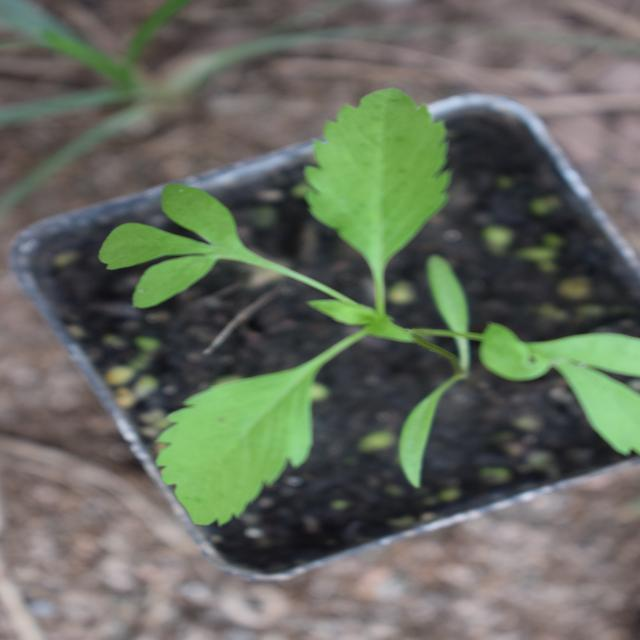Bidens pilosa: (79, 118, 526, 562)
